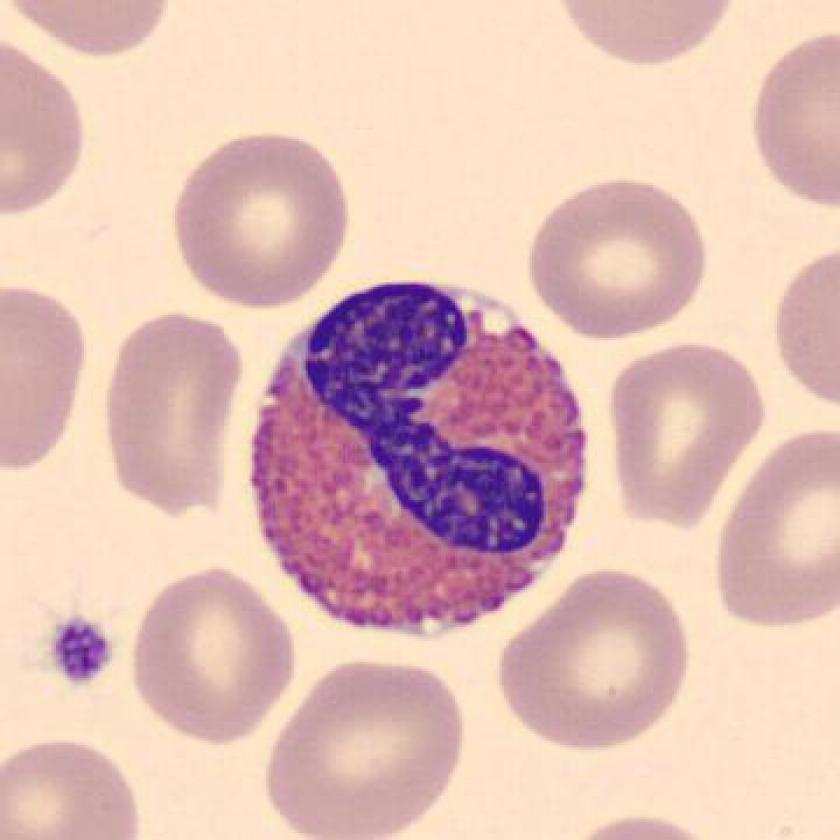eosinophil: (239, 274, 598, 649)
